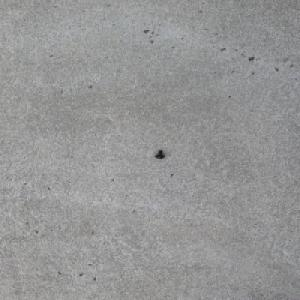BoltWasher: (154, 149, 165, 159)
